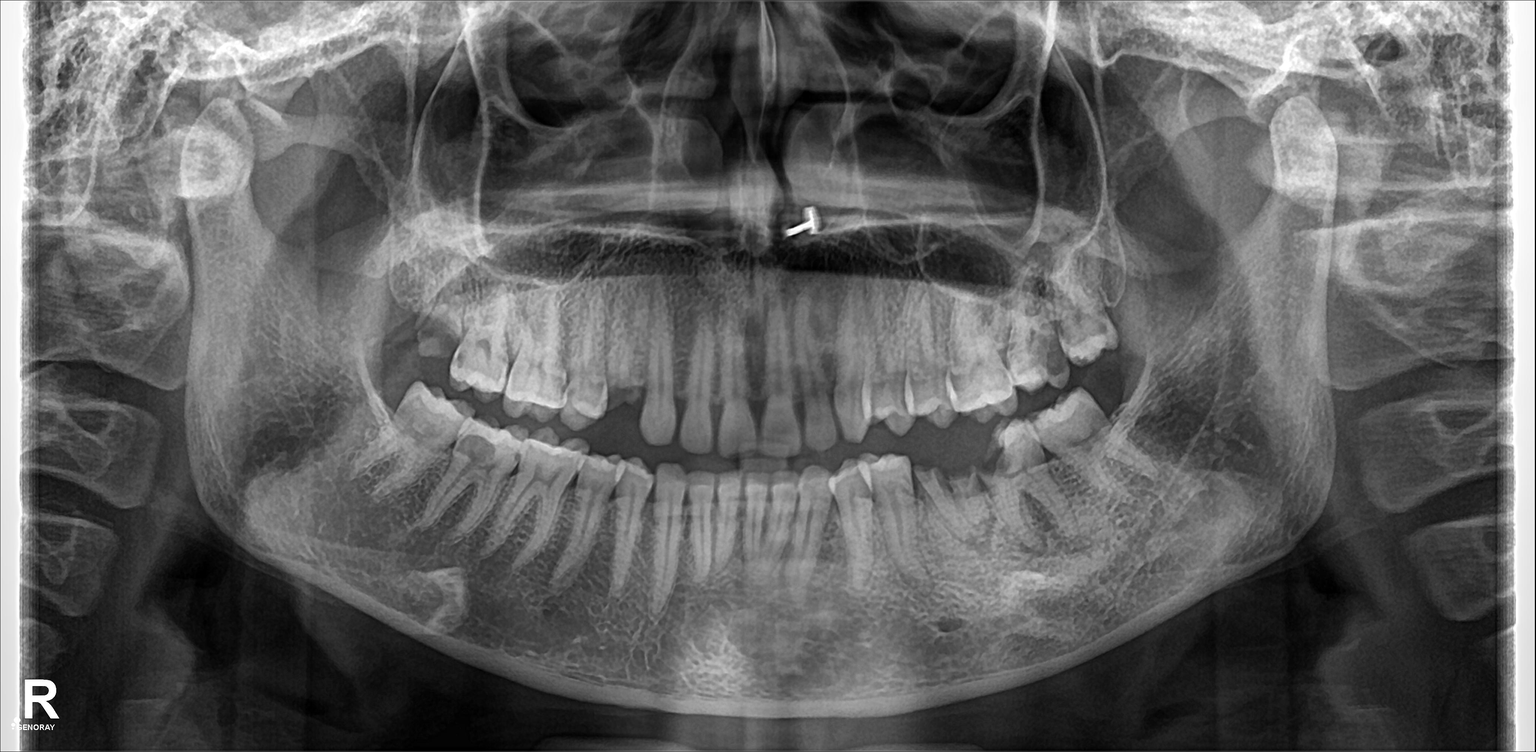Dental Caries: (1030, 322, 1073, 374), (415, 322, 459, 359), (456, 436, 501, 465), (991, 434, 1019, 474)
Missing Tooth: (382, 262, 417, 375)
Retained Root: (923, 449, 992, 539), (602, 320, 650, 420)
